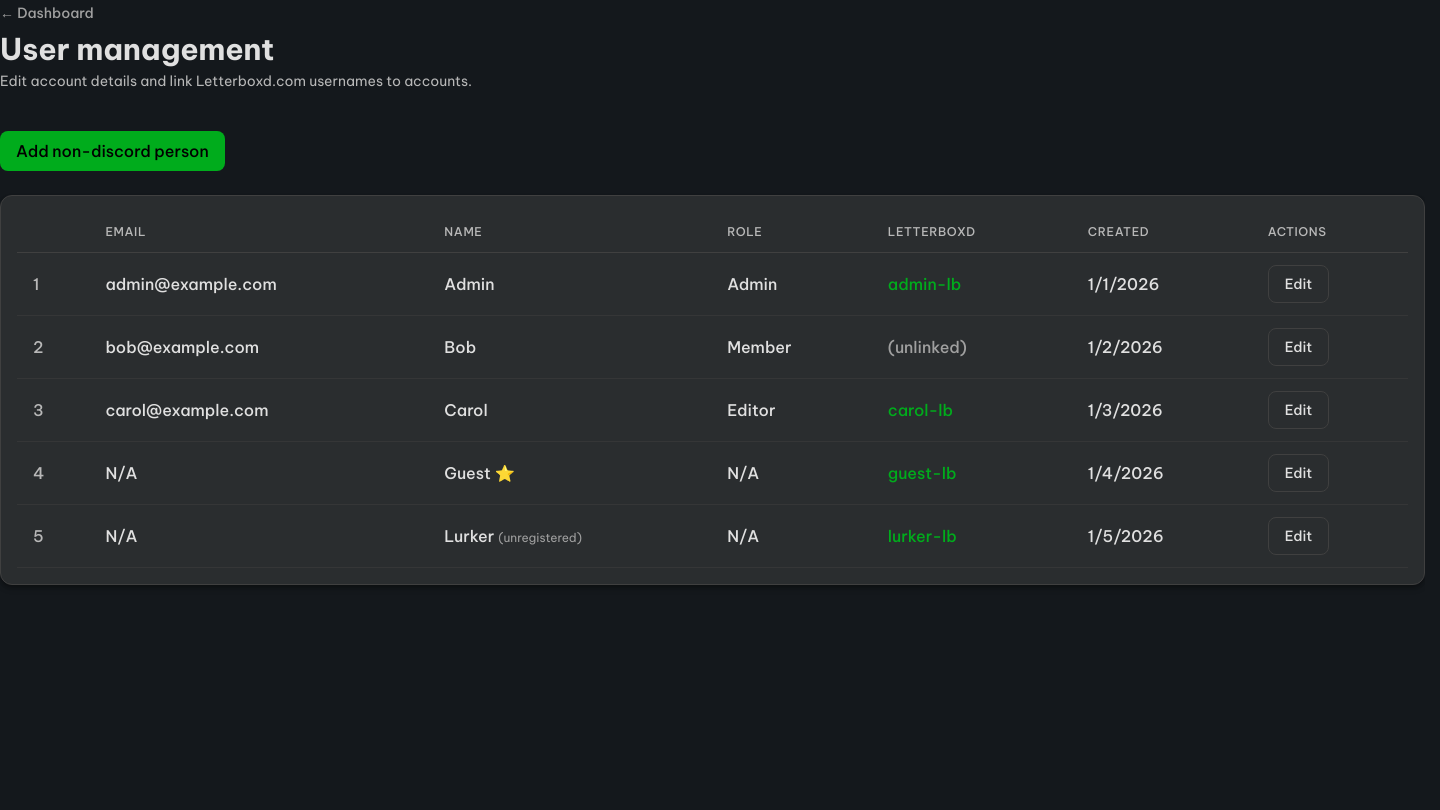
Test: UserAdmin — non-discord profiles › keeps the modal open with the server error on a duplicate
Click the button "Add non-discord person". click: (112, 151)
box: [0,131,225,171]
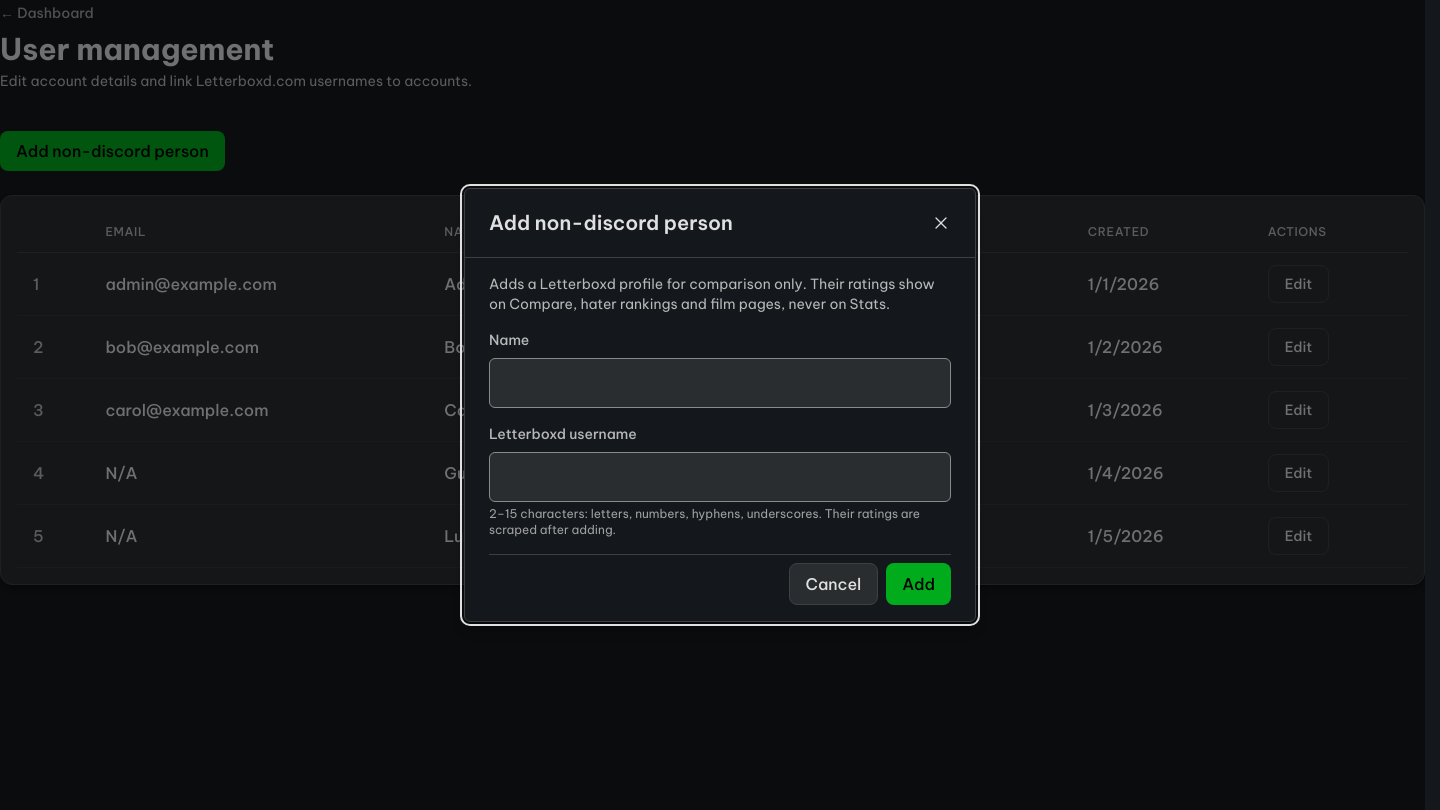
Type "Dupe" into the field labelled "Name". click: (720, 383)
box: [489,358,951,408]
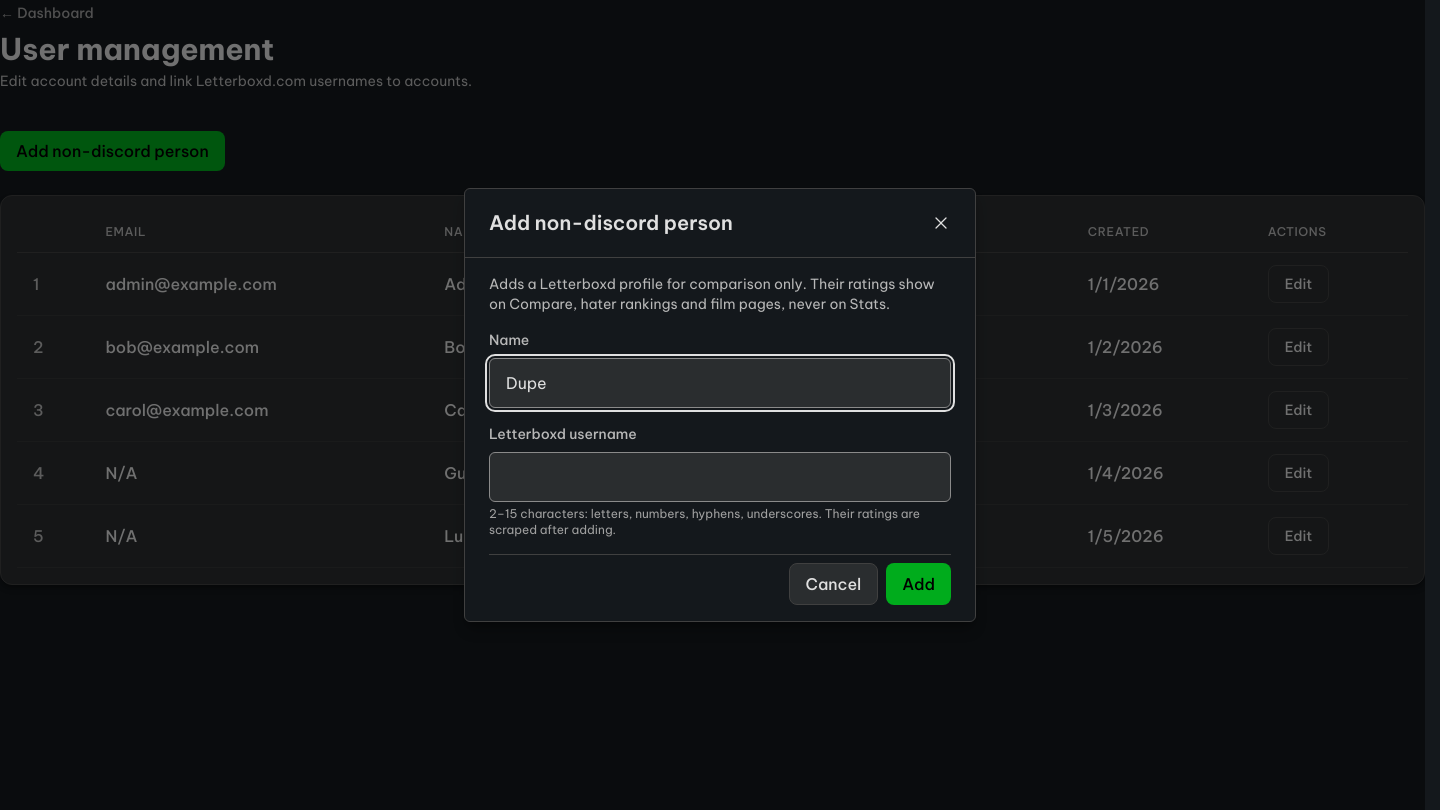
Type "carol-lb" into the field labelled "Letterboxd username". click: (720, 477)
box: [489,452,951,502]
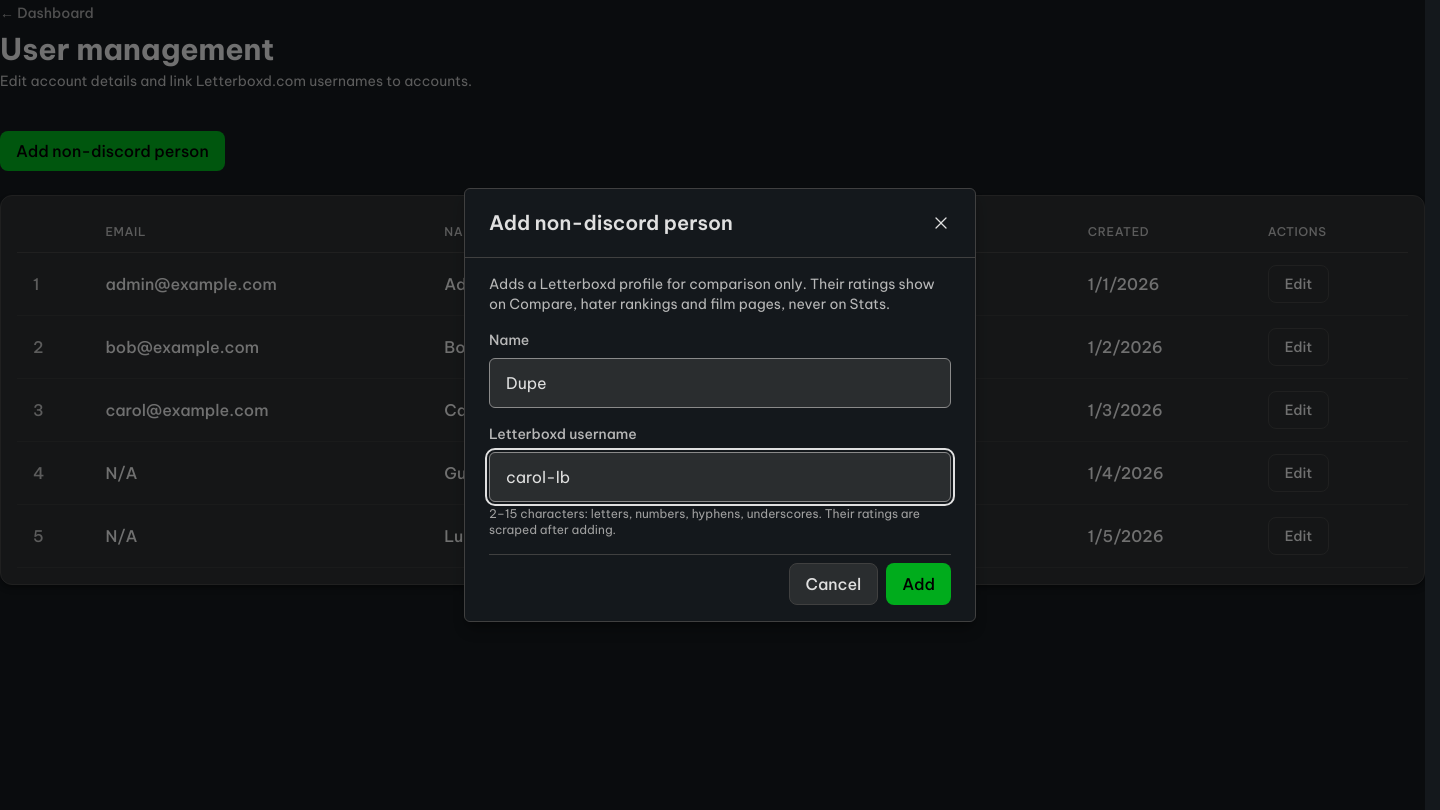
Click the button "Add". click: (919, 584)
box: [886,563,951,605]
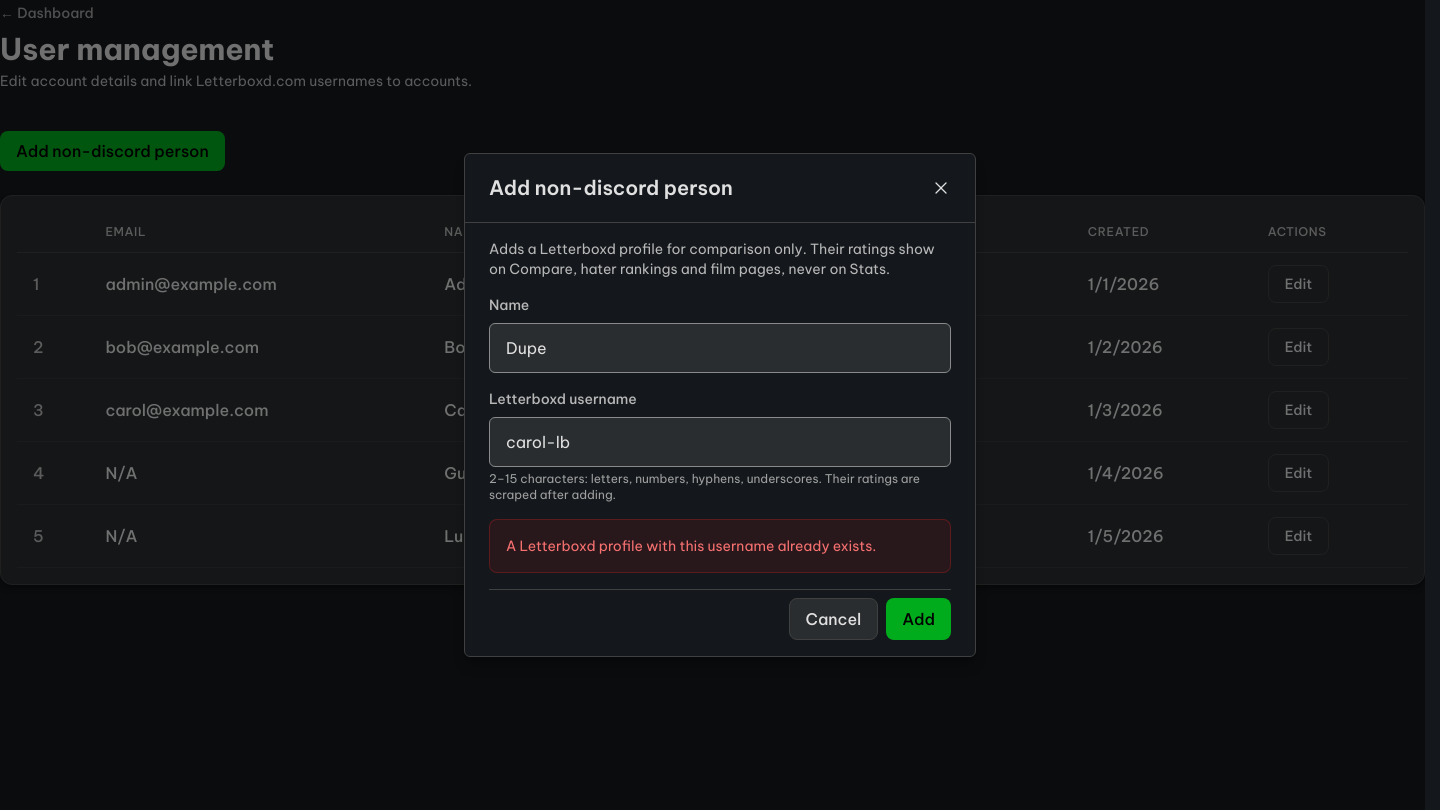
Check: the message shows "already exists", box [506,537,876,555]
